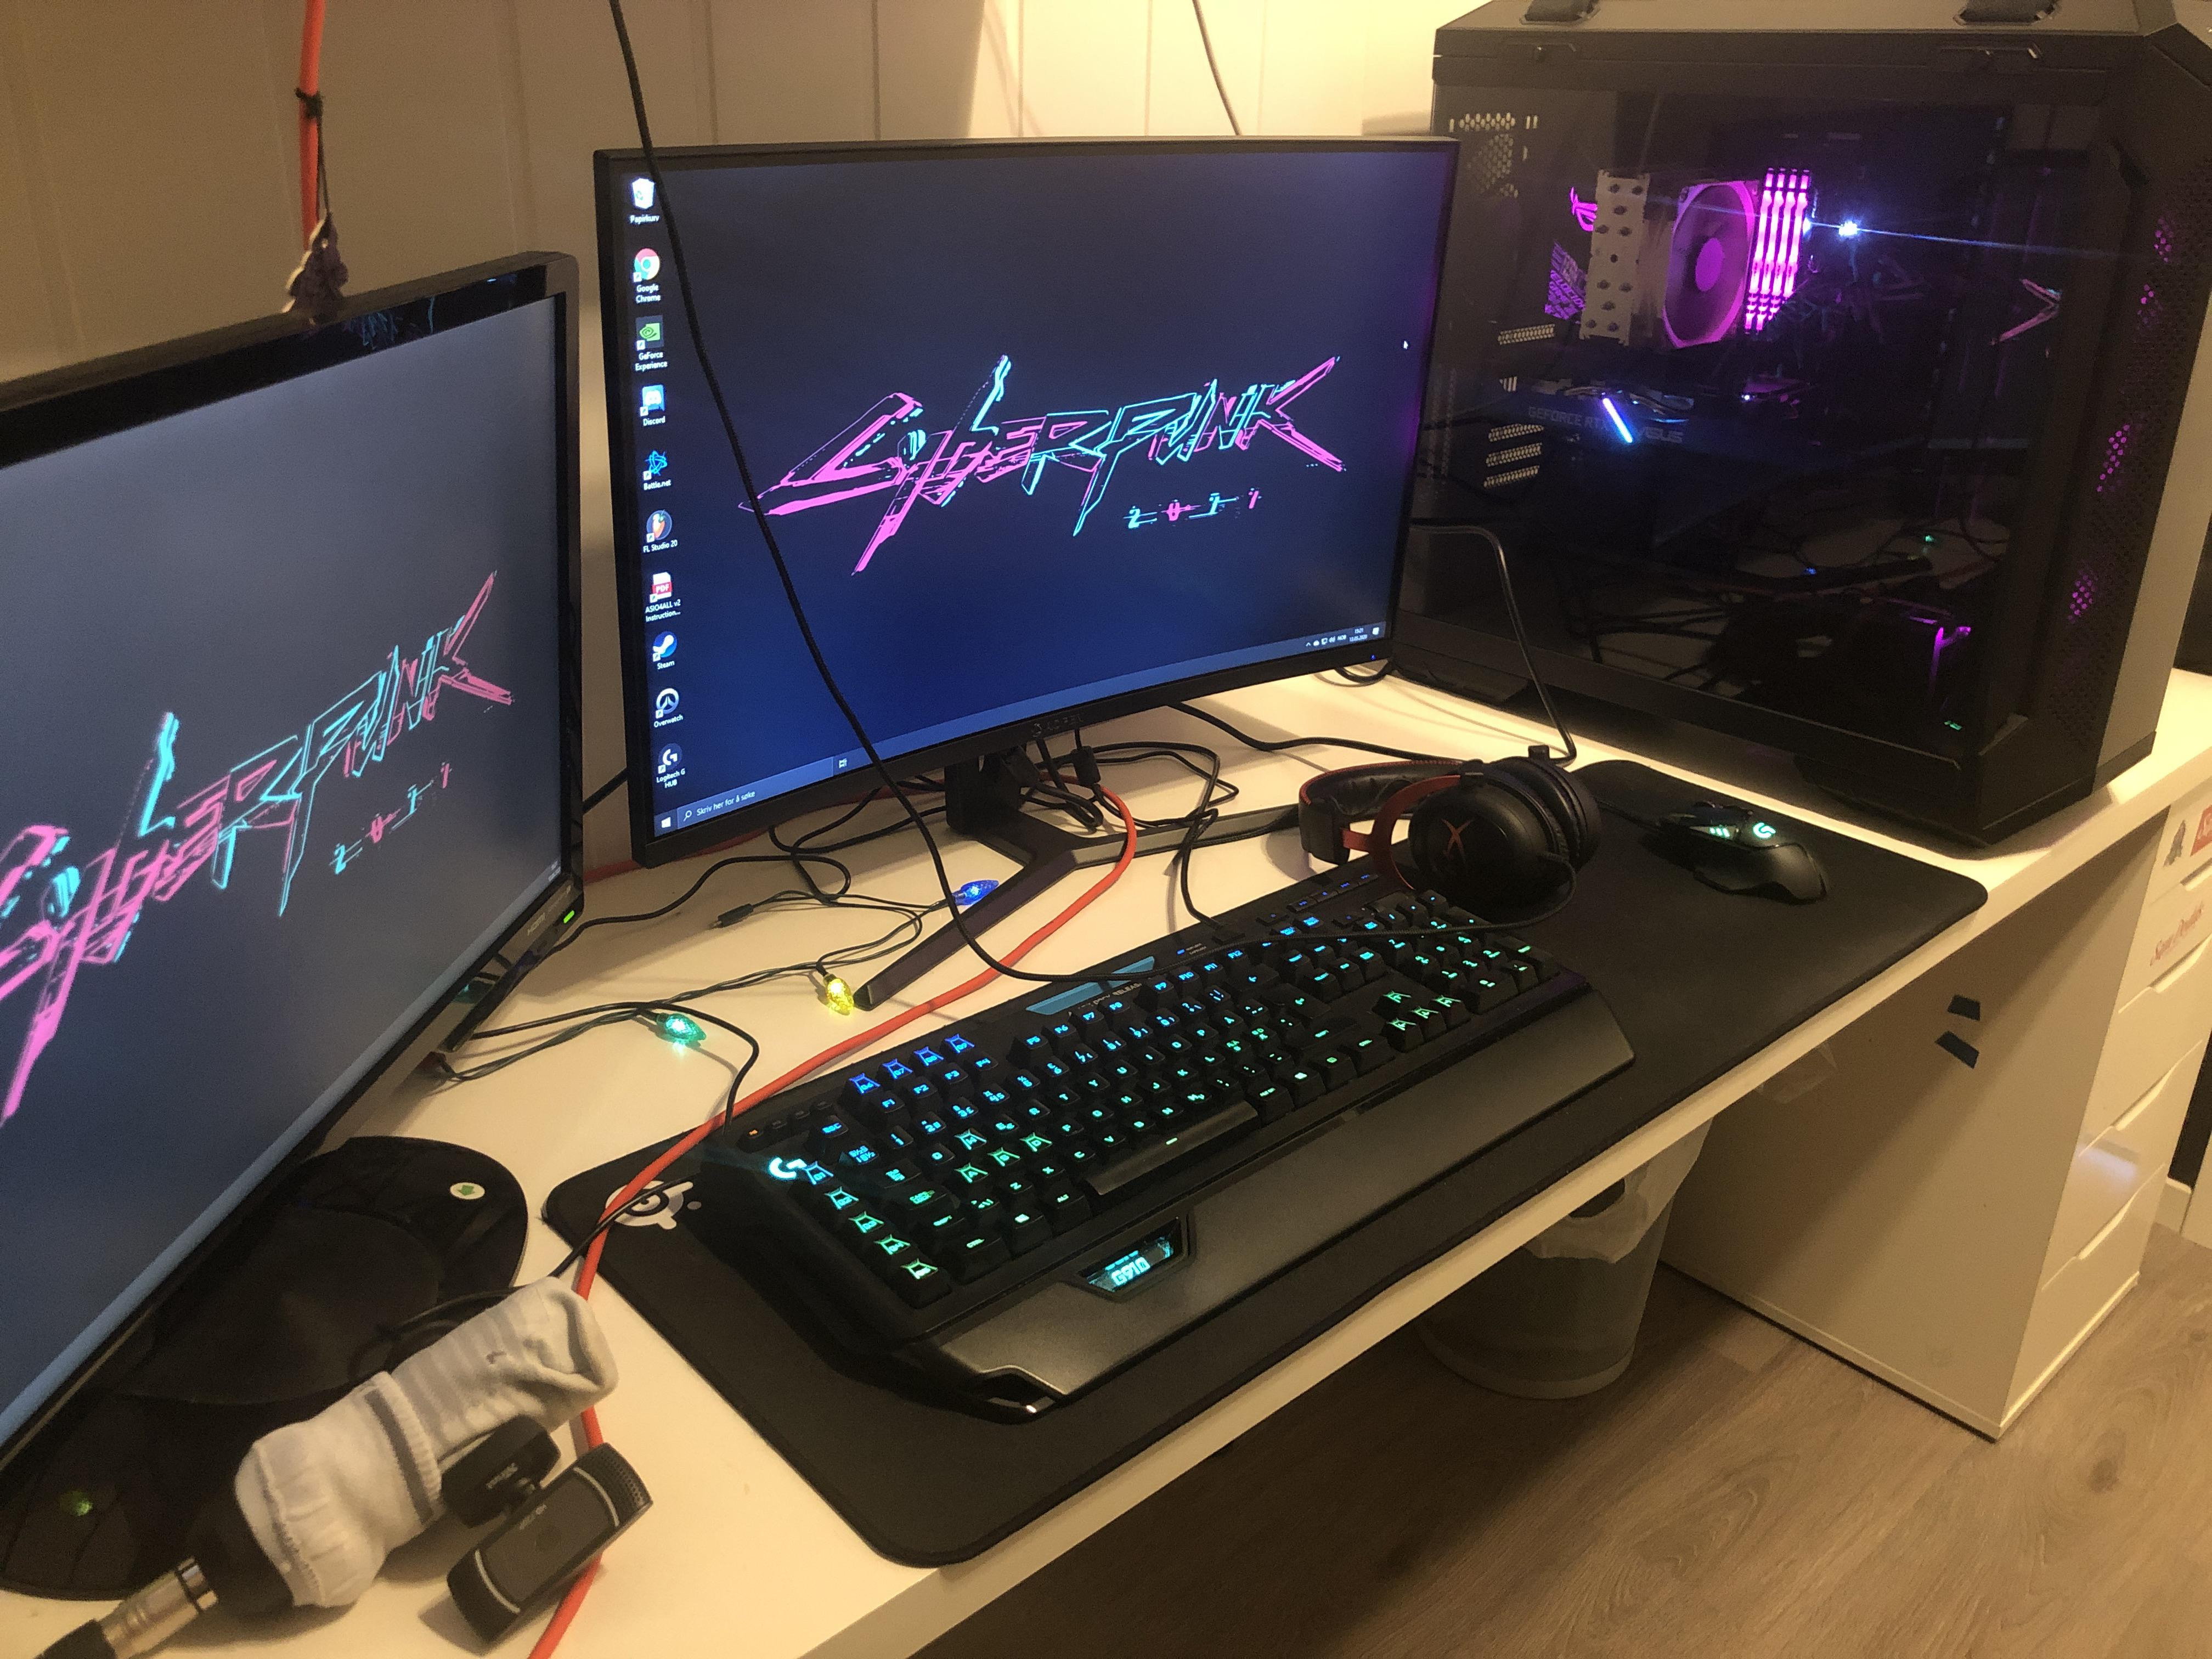Desk (Generic): (0, 633, 2210, 1659)
Desktop (Windows): (1430, 5, 2212, 842)
External Microphone (Generic): (211, 1270, 643, 1642)
External Webcam: (366, 1408, 721, 1608)
Headphones: (1345, 756, 1597, 889)
Keyboard (Gaming): (698, 871, 1658, 1422)
Monitor (Landscape): (0, 239, 582, 1513), (589, 132, 1510, 796)
Mouse (Gaming): (1658, 786, 1836, 932)
Mousepad (Generic): (547, 774, 1998, 1568)
Storage Drawer: (1991, 796, 2212, 1448)
Trash Can: (1461, 1110, 1710, 1413)
